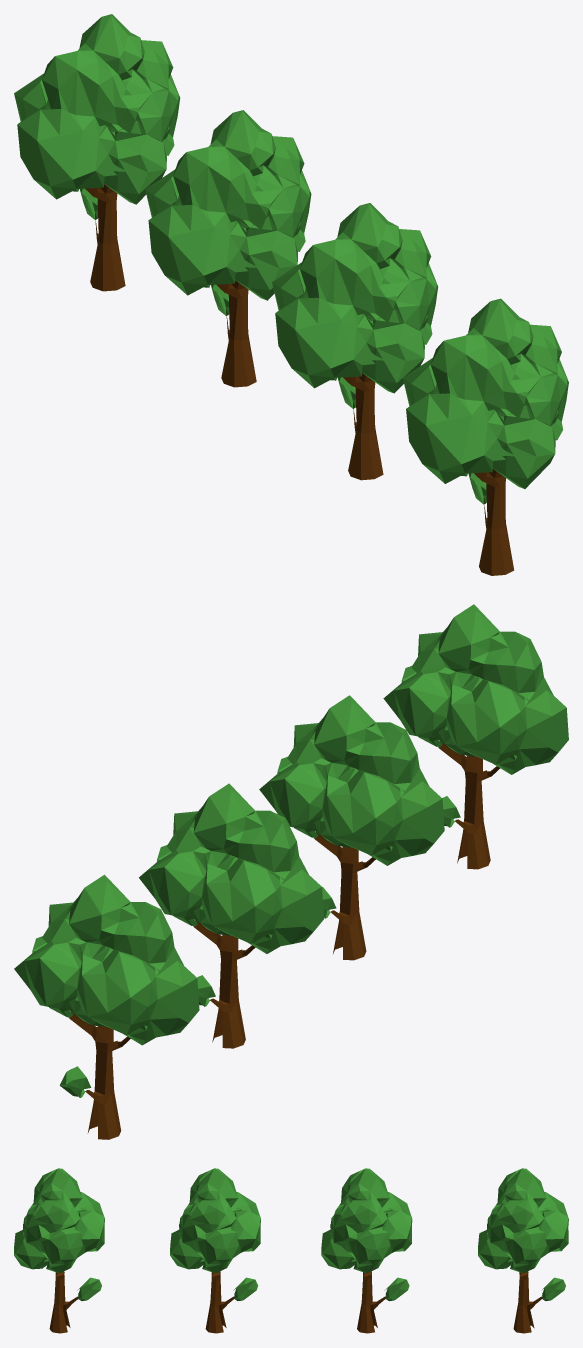
Rendered from arbre2.fbx.
3 views of the same model, one above another, from view 1: azimuth 30°, elevation 25°; view 2: azimuth 150°, elevation 25°; view 3: azimuth 270°, elevation 25° (orthographic). The views are drawn at different scales.
Parts seen in each view (by area): view 1: _4_tree__4_tree_0.580, _4_tree__4_tree_0.001, _4_tree__4_tree_0.003, _4_tree__4_tree_0.002; view 2: _4_tree__4_tree_0.003, _4_tree__4_tree_0.002, _4_tree__4_tree_0.580, _4_tree__4_tree_0.001; view 3: _4_tree__4_tree_0.002, _4_tree__4_tree_0.001, _4_tree__4_tree_0.580, _4_tree__4_tree_0.003.
Boxes of the visible parts, box(x1,y1,x2,y2) form: _4_tree__4_tree_0.580: box(403, 298, 568, 575); _4_tree__4_tree_0.001: box(272, 203, 437, 480); _4_tree__4_tree_0.003: box(14, 14, 180, 291); _4_tree__4_tree_0.002: box(145, 110, 311, 387); _4_tree__4_tree_0.003: box(14, 874, 199, 1139); _4_tree__4_tree_0.002: box(139, 783, 324, 1048); _4_tree__4_tree_0.580: box(383, 604, 568, 869); _4_tree__4_tree_0.001: box(259, 695, 444, 960); _4_tree__4_tree_0.002: box(321, 1168, 412, 1333); _4_tree__4_tree_0.001: box(170, 1168, 260, 1333); _4_tree__4_tree_0.580: box(14, 1168, 104, 1333); _4_tree__4_tree_0.003: box(478, 1168, 568, 1333).
Size of the model in its own units: 304 by 499 by 1557.
8 materials, 8 textured.
